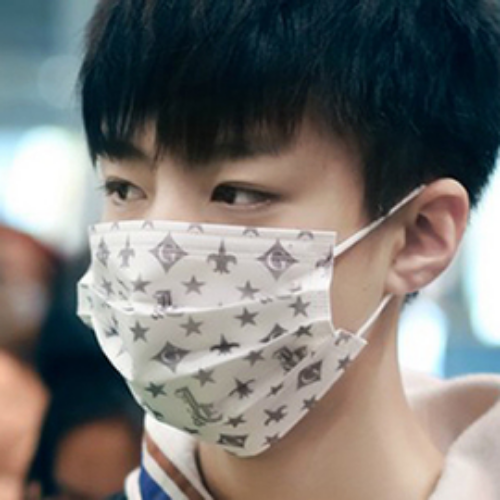face_mask: (85, 56, 372, 409)
